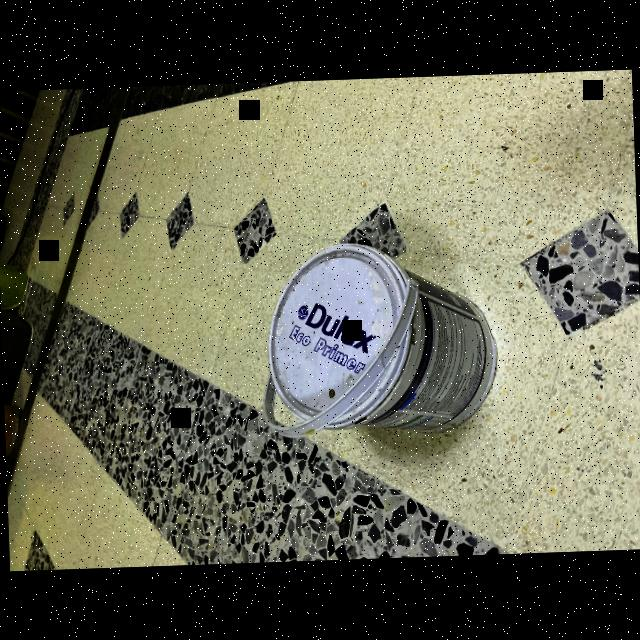paint_bucket: (235, 231, 510, 451)
